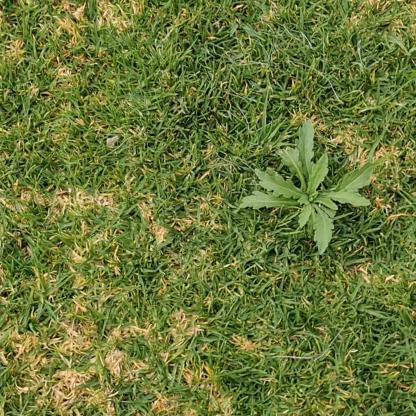Weeds: (240, 120, 374, 255)
